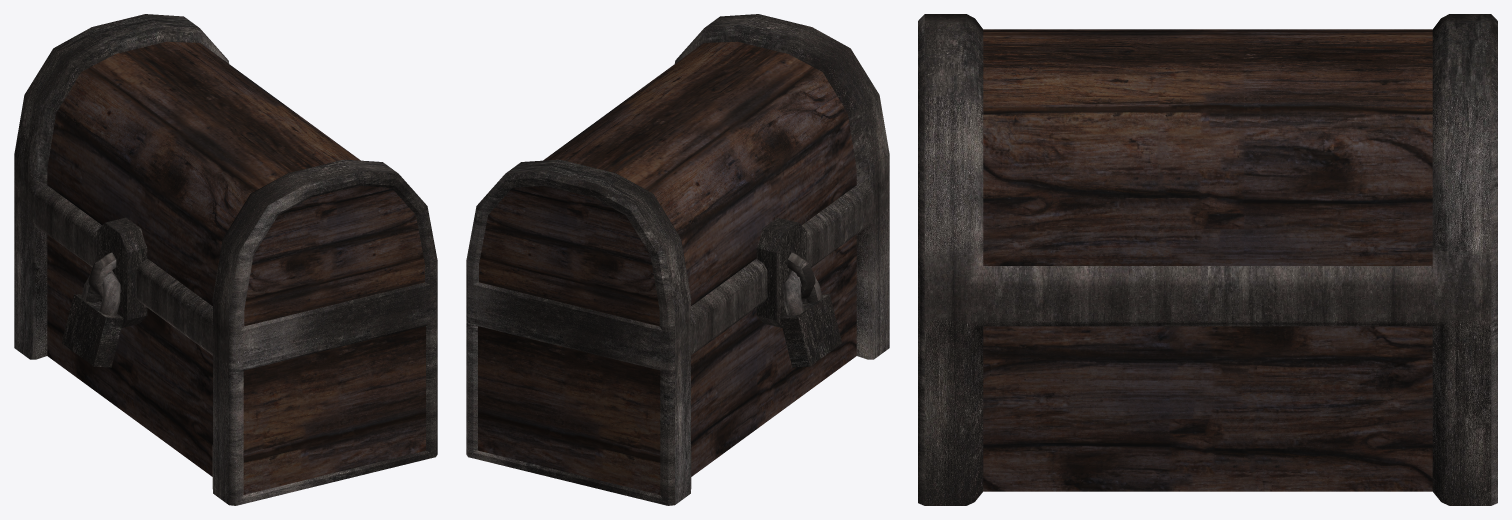
File: treasureChest.fbx
3 views of the same model, side by side, from view 1: azimuth 30°, elevation 25°; view 2: azimuth 150°, elevation 25°; view 3: azimuth 270°, elevation 25° (orthographic). The views are drawn at different scales.
Parts seen in each view (by area): view 1: treasureChest; view 2: treasureChest; view 3: treasureChest.
Boxes of the visible parts, x1,y1,x2,y2 form: treasureChest: (14, 14, 437, 505); treasureChest: (466, 14, 889, 505); treasureChest: (918, 14, 1497, 505).
Size of the model in its own units: 0.934 by 1.07 by 1.41.
